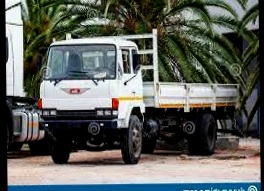truck: (35, 25, 239, 166)
